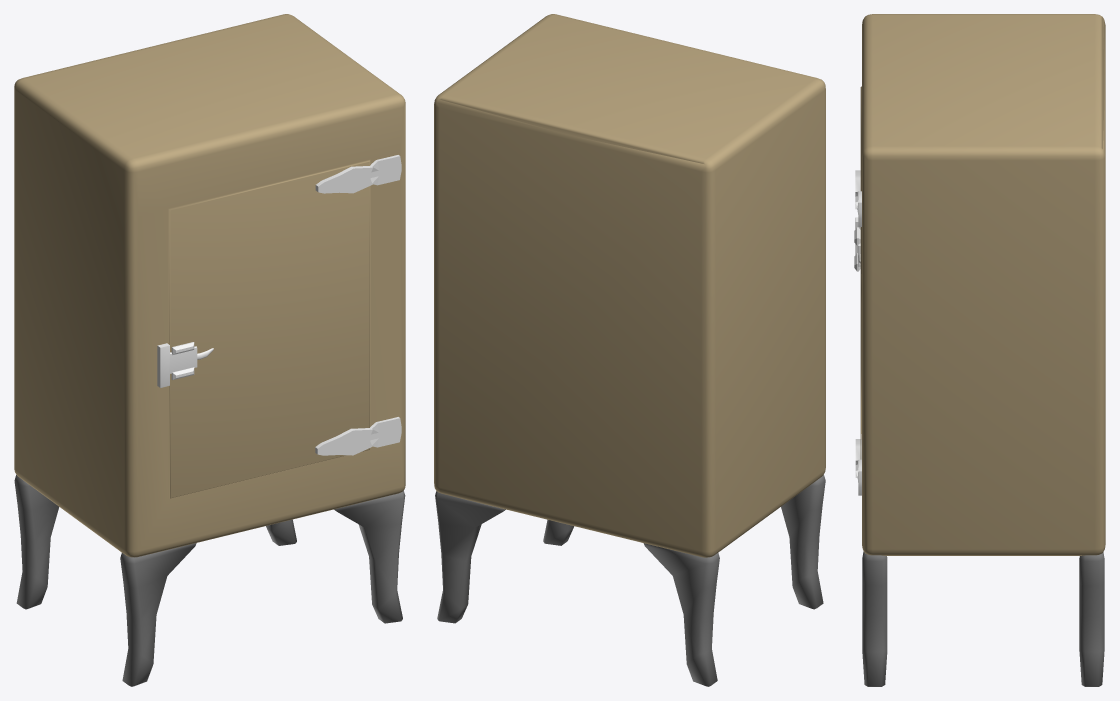
The model's file is K_Fridge.fbx.
3 views of the same model, side by side, from view 1: azimuth 30°, elevation 25°; view 2: azimuth 150°, elevation 25°; view 3: azimuth 270°, elevation 25° (orthographic). The views are drawn at different scales.
Parts seen in each view (by area): view 1: NeveraUV_Done; view 2: NeveraUV_Done; view 3: NeveraUV_Done.
Part boxes in pixels (left/top/right/bottom): NeveraUV_Done: left=14, top=14, right=405, bottom=686; NeveraUV_Done: left=434, top=14, right=825, bottom=686; NeveraUV_Done: left=854, top=14, right=1105, bottom=686.
Bounding box in the file's own units: 51.38 × 38.97 × 92.28.
